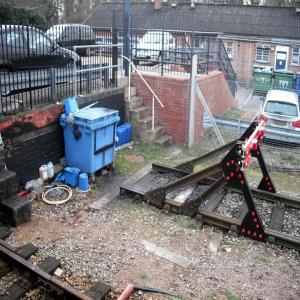Vehicle-registration-plate: (274, 121, 288, 126)
